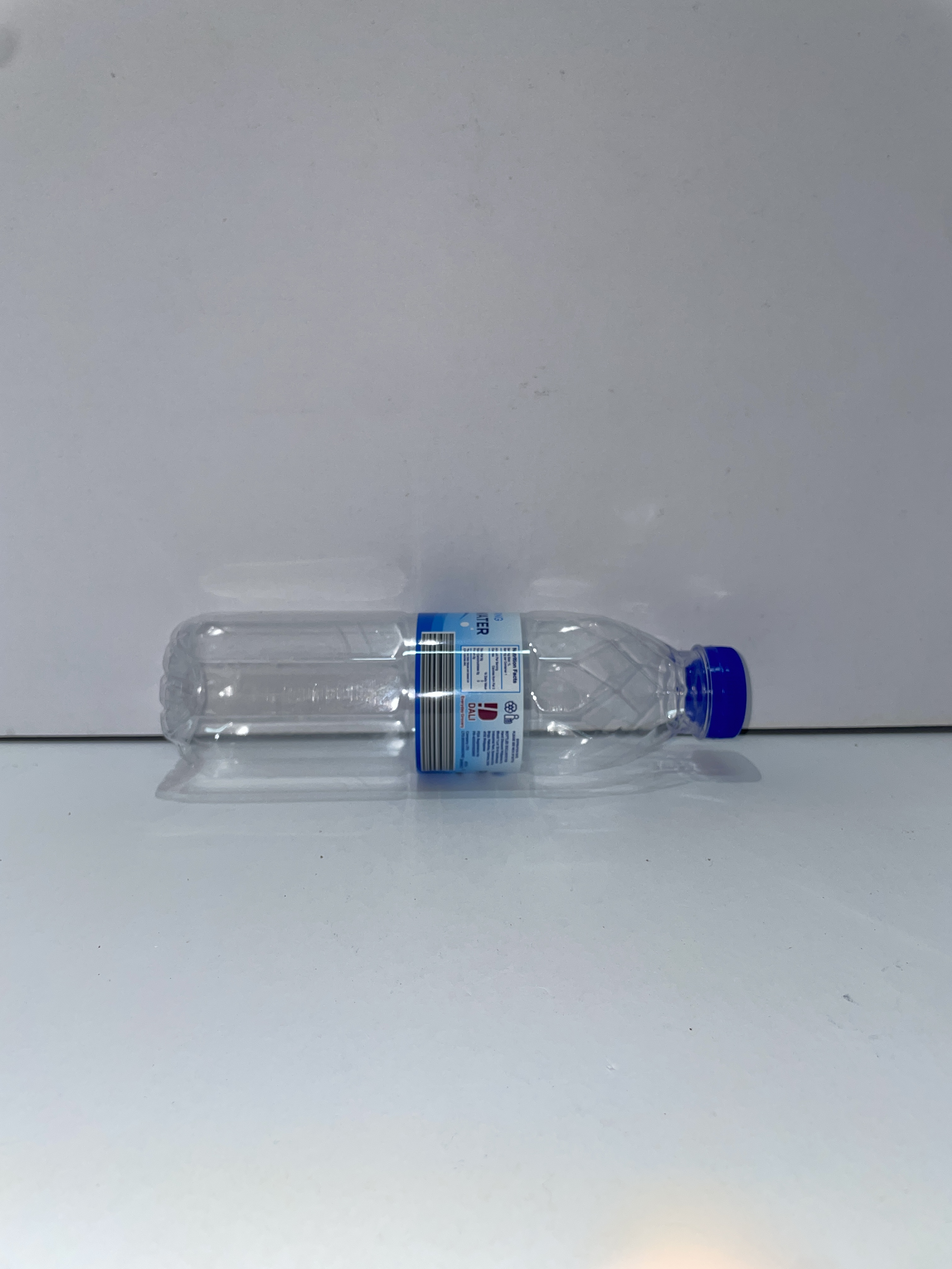Aquaspring 350ml: (160, 609, 749, 787), (155, 614, 745, 781)
